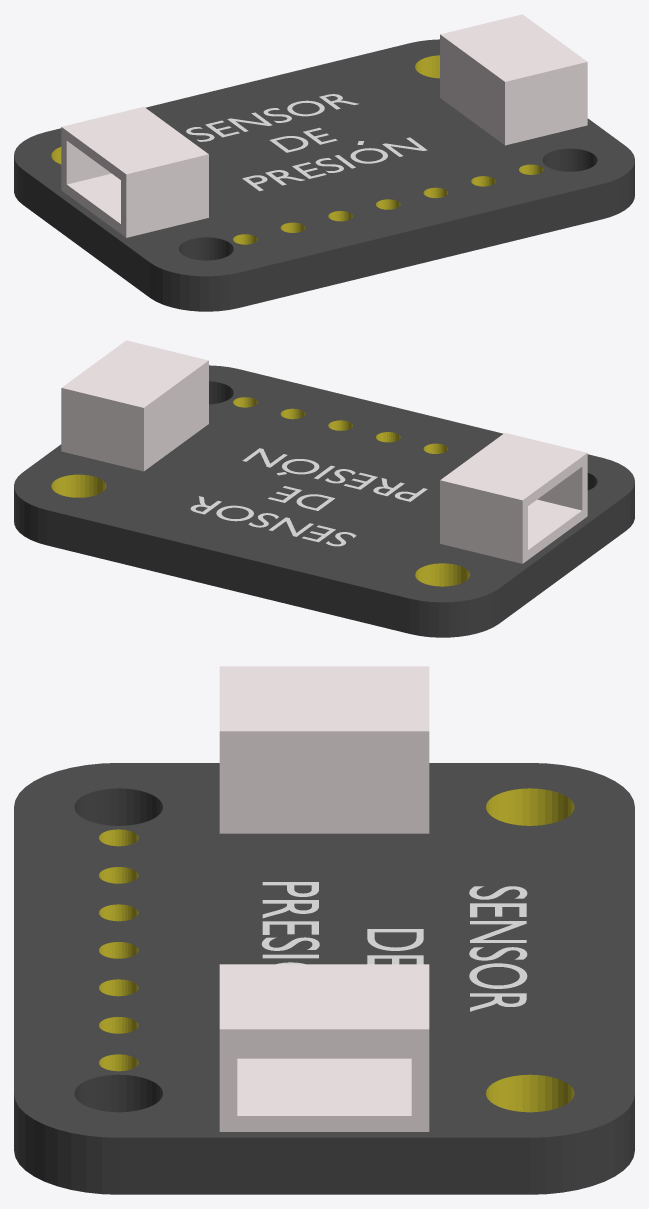
Rendered from bmp.fbx.
The picture shows the model from 3 angles, top to bottom: view 1: azimuth 30°, elevation 25°; view 2: azimuth 150°, elevation 25°; view 3: azimuth 270°, elevation 25°; orthographic projection. The views are drawn at different scales.
Visible parts, largest first — view 1: cansat_alpha - adafruit_bmp280_placa-1, Texto.007, Texto.001, Texto; view 2: cansat_alpha - adafruit_bmp280_placa-1, Texto.007, Texto.001, Texto; view 3: cansat_alpha - adafruit_bmp280_placa-1, Texto.001, Texto.007, Texto.
Boxes of the visible parts, <box> form: cansat_alpha - adafruit_bmp280_placa-1: <box>14,14,634,311</box>; Texto.007: <box>242,137,427,191</box>; Texto.001: <box>186,94,358,141</box>; Texto: <box>269,127,337,152</box>; cansat_alpha - adafruit_bmp280_placa-1: <box>14,340,634,637</box>; Texto.007: <box>242,448,427,501</box>; Texto.001: <box>190,496,356,546</box>; Texto: <box>268,486,334,510</box>; cansat_alpha - adafruit_bmp280_placa-1: <box>14,666,634,1194</box>; Texto.001: <box>469,886,527,1011</box>; Texto.007: <box>261,882,319,964</box>; Texto: <box>367,929,423,964</box>.
Size of the model in its own units: 25.4 by 5.04 by 17.78.
